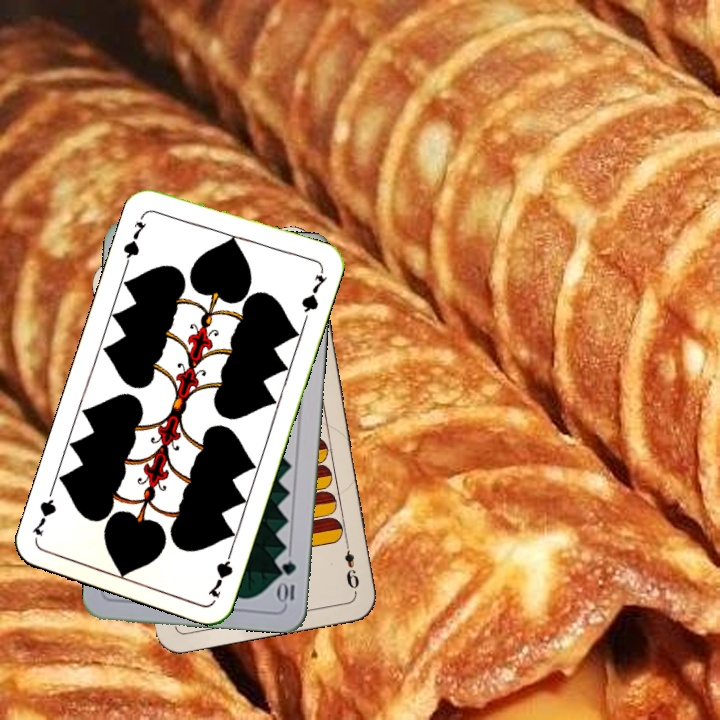E9: (340, 536, 362, 595)
G10: (275, 556, 299, 606)
G7: (204, 543, 236, 601), (119, 217, 149, 266)
